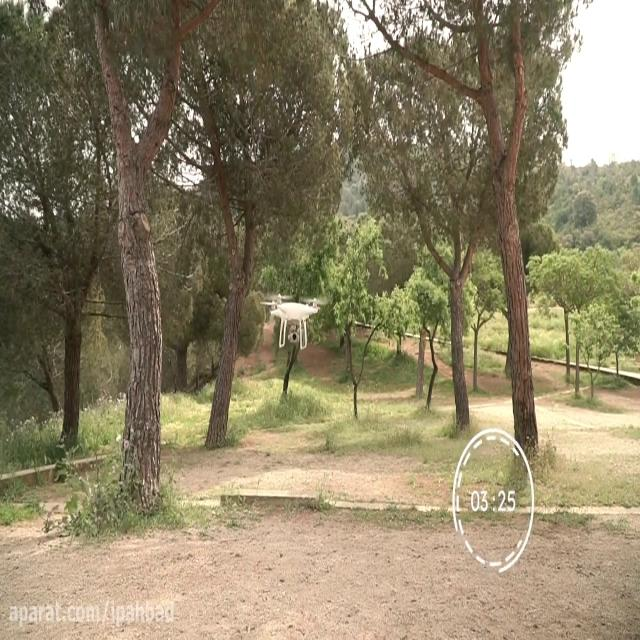drone: (258, 289, 328, 350)
